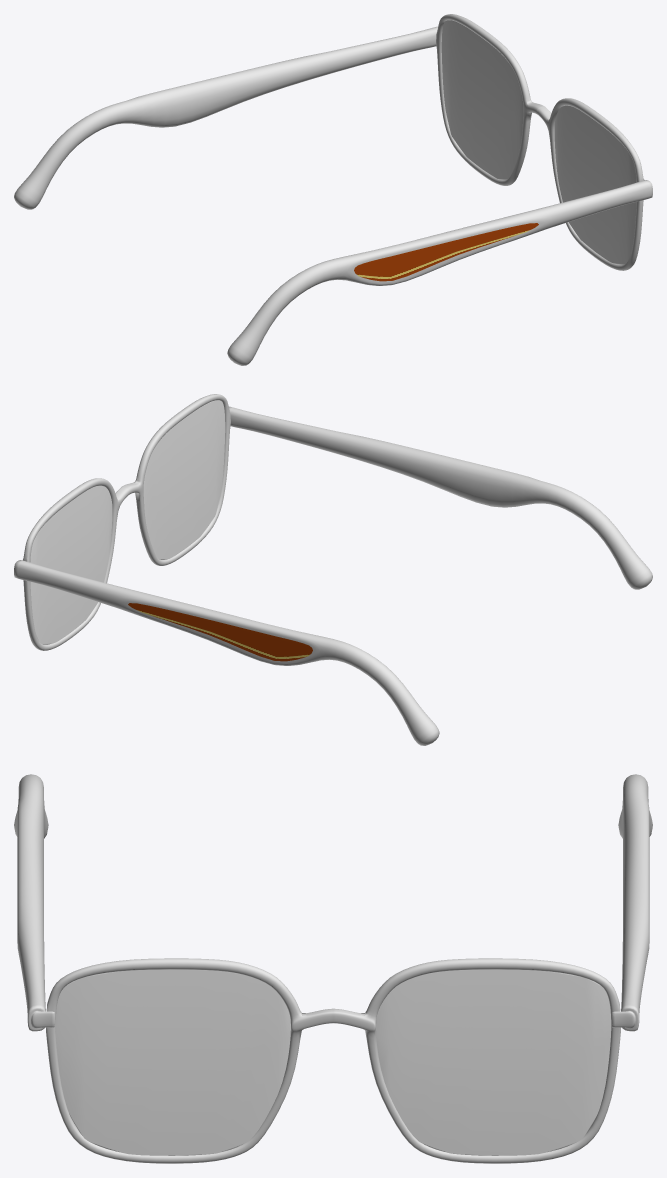
The model's file is Carre.glb.
3 renders of one model, top to bottom at view 1: azimuth 30°, elevation 25°; view 2: azimuth 150°, elevation 25°; view 3: azimuth 270°, elevation 25°, orthographic. The views are drawn at different scales.
Visible parts, largest first — view 1: Cube.002, Cube.001, Cube; view 2: Cube.002, Cube.001, Cube; view 3: Cube.001, Cube, Cube.002.
Part boxes in pixels (x1,y1,x2,y2): Cube.002: (14,26,652,365); Cube.001: (441,20,636,264); Cube: (436,14,643,270); Cube.002: (14,406,652,745); Cube.001: (30,400,225,644); Cube: (23,394,230,650); Cube.001: (55,969,611,1155); Cube: (46,958,620,1163); Cube.002: (14,774,652,1031).
Size of the model in its own units: 9 by 2.92 by 8.3.
Materials: 3 (1 with a texture image).
